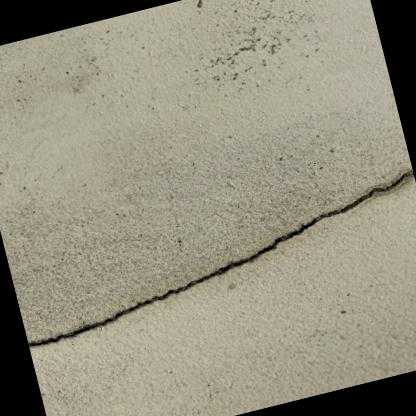crack: (28, 171, 414, 347)
